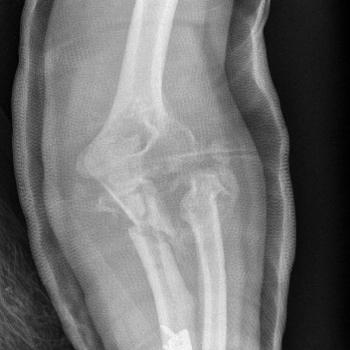Fracture: (118, 220, 184, 259)
